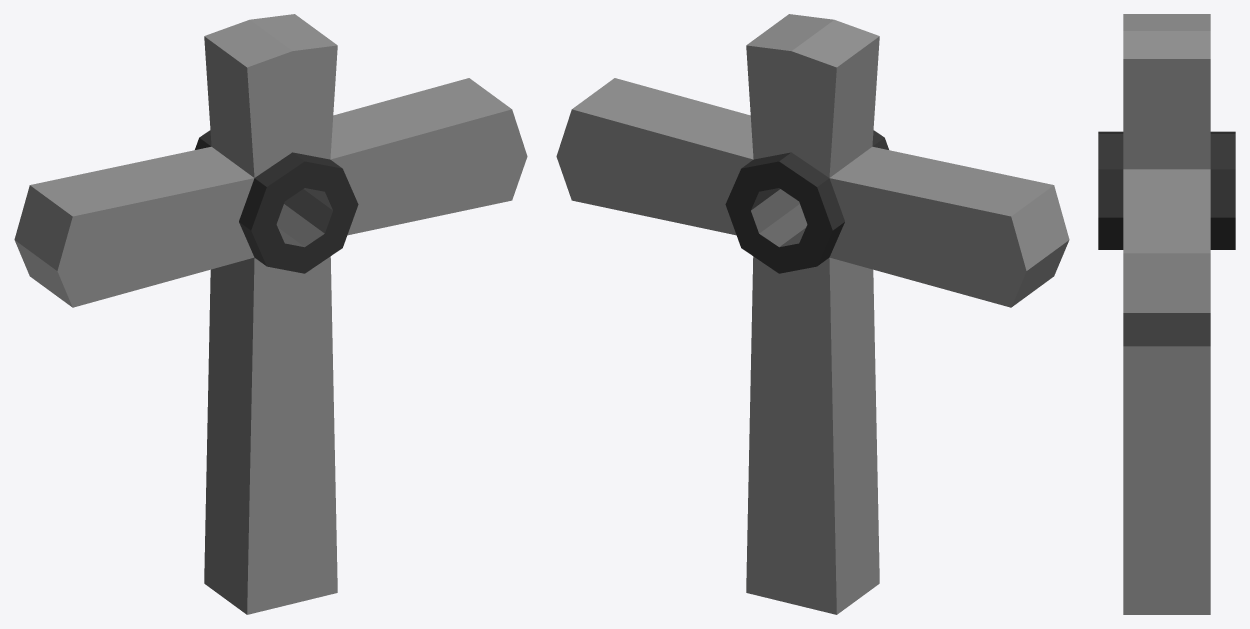
File: headstone_06.fbx
3 renders of one model, left to right at view 1: azimuth 30°, elevation 25°; view 2: azimuth 150°, elevation 25°; view 3: azimuth 270°, elevation 25°, orthographic.
Parts seen in each view (by area): view 1: headstone_06; view 2: headstone_06; view 3: headstone_06.
Boxes of the visible parts, box(x1,y1,x2,y2) form: headstone_06: box(14, 14, 527, 614); headstone_06: box(556, 14, 1069, 614); headstone_06: box(1098, 14, 1235, 614).
Bounding box in the file's own units: 1.21 × 1.36 × 0.3025.
